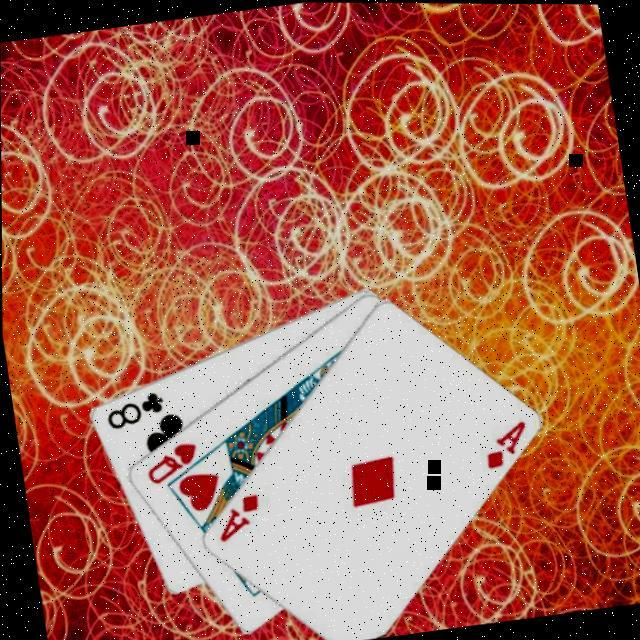8C: (98, 388, 166, 435)
AD: (208, 491, 264, 547), (475, 417, 531, 473)
QH: (137, 439, 201, 490)
